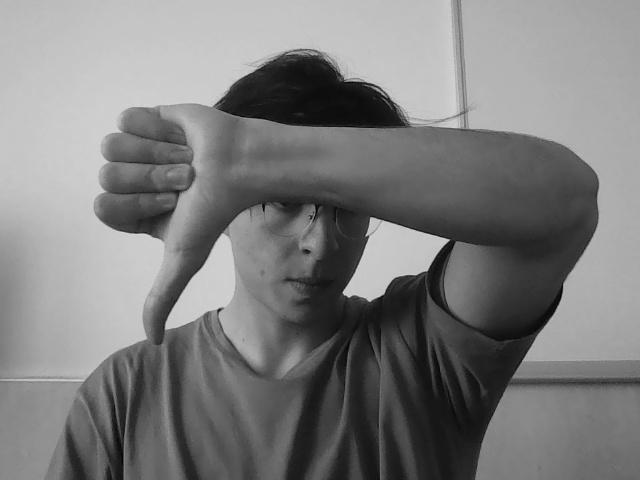bad: (92, 77, 240, 356)
